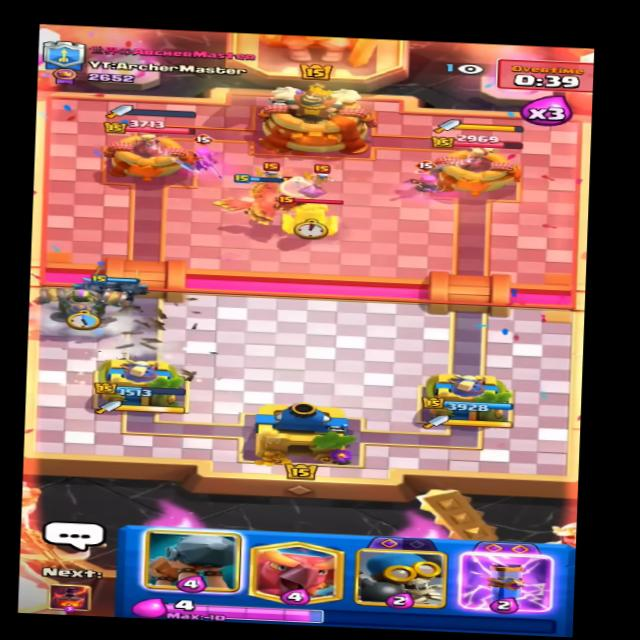evo-archers: (185, 138, 223, 172), (410, 159, 451, 190)
skeleton: (308, 162, 343, 186), (251, 158, 286, 177)
tesla: (274, 194, 345, 244)
